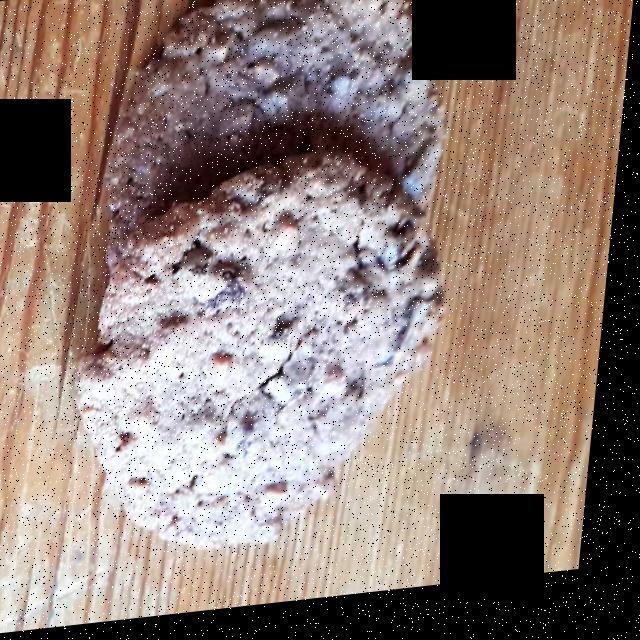cookies: (95, 0, 444, 551)
